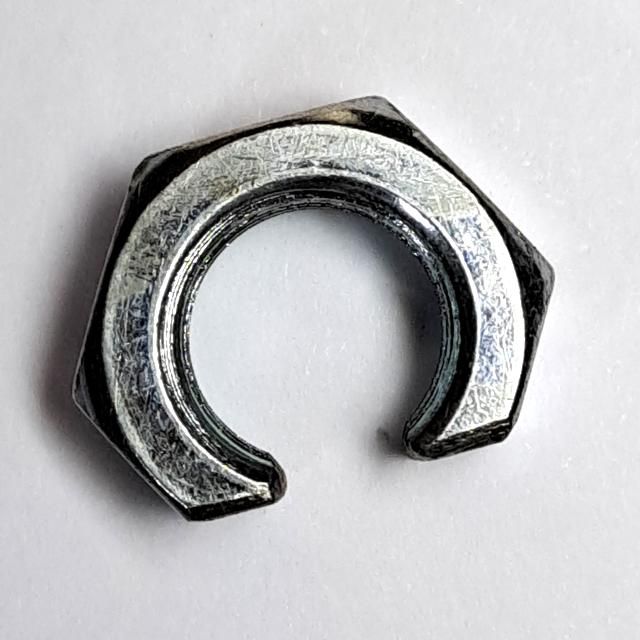Fracture: (53, 76, 566, 539)
